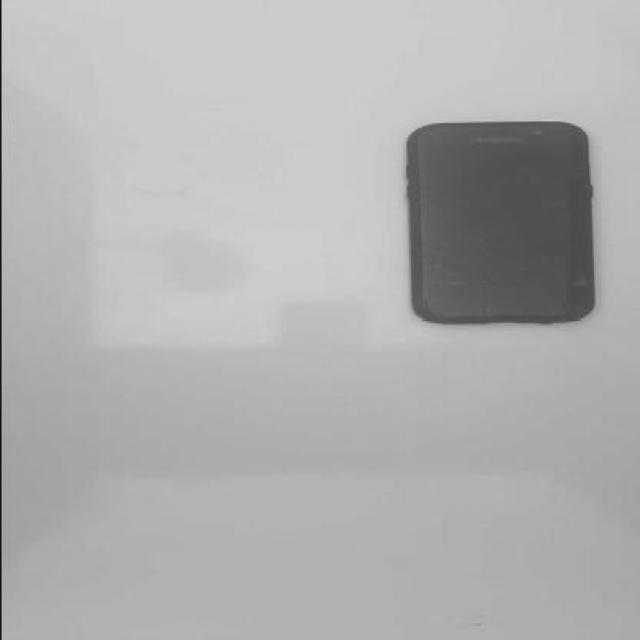fake: (409, 121, 588, 324)
